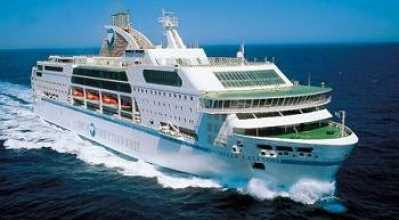youlun: (24, 7, 356, 194)
